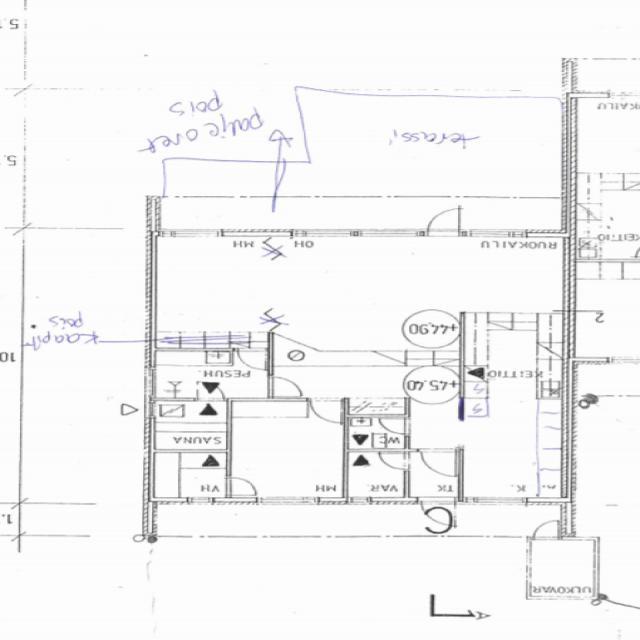door: (420, 497, 454, 529), (420, 449, 456, 476), (426, 206, 458, 236), (310, 398, 342, 423), (268, 376, 302, 396), (376, 379, 404, 400), (349, 379, 376, 400), (198, 380, 223, 401), (227, 478, 256, 495), (534, 520, 558, 540), (381, 418, 409, 435), (381, 454, 409, 470)
